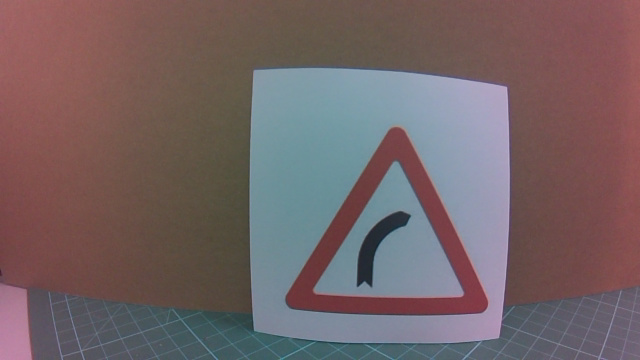right: (309, 146, 487, 322)
